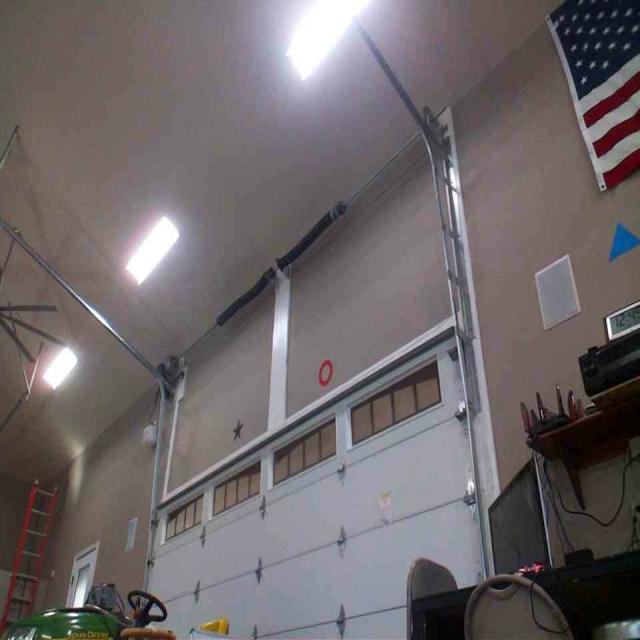ring_red: (317, 358, 332, 385)
star_black: (232, 416, 244, 442)
triangle_blue: (609, 223, 639, 260)
